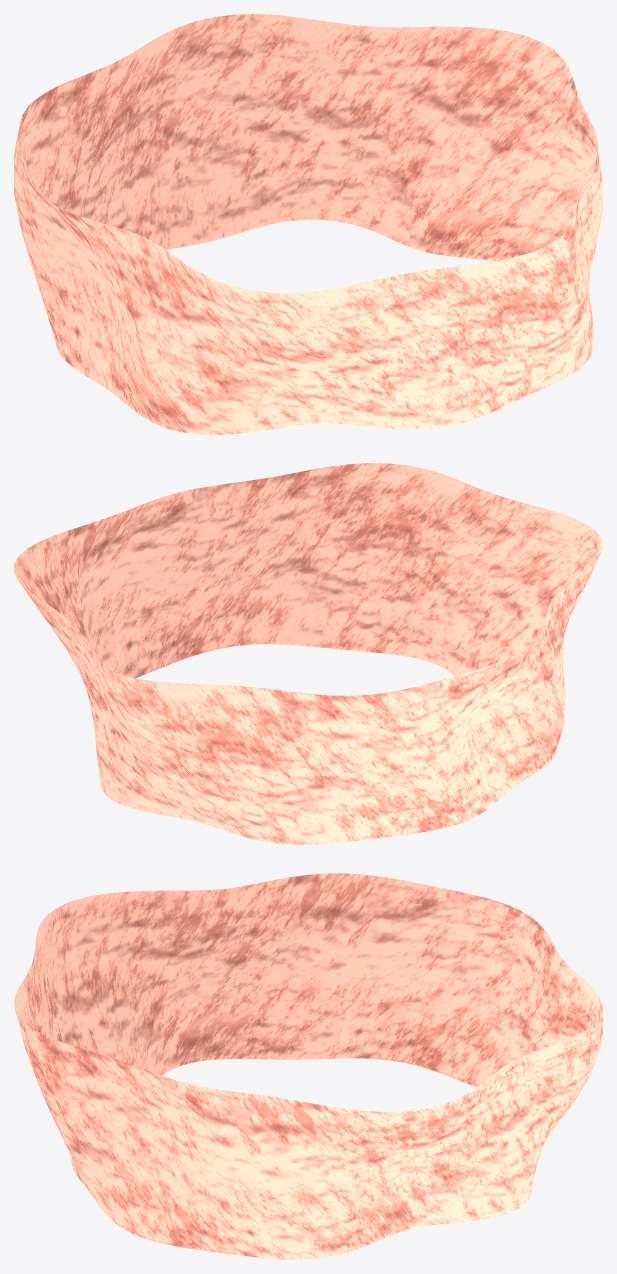
File: clear_devil_ring.glb
3 renders of one model, top to bottom at view 1: azimuth 30°, elevation 25°; view 2: azimuth 150°, elevation 25°; view 3: azimuth 270°, elevation 25°, orthographic. The views are drawn at different scales.
Visible parts, largest first — view 1: devil_ring; view 2: devil_ring; view 3: devil_ring.
Boxes of the visible parts, <box> form: devil_ring: <box>14,14,602,434</box>; devil_ring: <box>14,463,602,844</box>; devil_ring: <box>14,873,602,1259</box>.
Size of the model in its own units: 9.73 by 3.2 by 10.15.
Materials: 1 (1 with a texture image).
